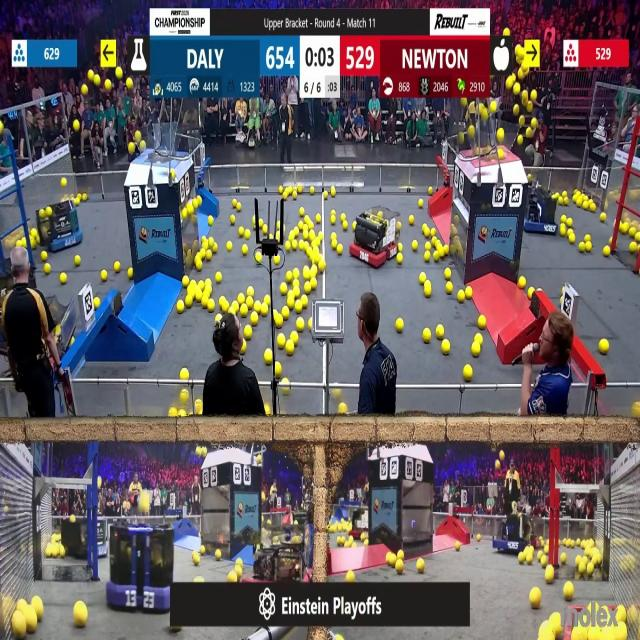ball_airborne: (139, 496, 150, 512), (514, 84, 522, 96), (522, 61, 530, 73), (497, 129, 504, 142), (73, 119, 80, 131), (506, 76, 513, 88), (516, 45, 524, 55), (530, 91, 537, 102), (81, 86, 88, 97), (127, 78, 134, 89), (491, 102, 497, 114), (130, 142, 136, 154), (459, 132, 465, 144), (140, 141, 147, 151), (518, 135, 525, 145), (94, 75, 101, 85), (519, 115, 526, 125), (531, 117, 537, 128), (515, 104, 521, 115), (468, 127, 474, 138), (116, 68, 122, 79), (498, 148, 504, 158), (527, 102, 533, 112), (106, 79, 112, 89), (136, 132, 142, 142), (481, 104, 486, 116), (518, 70, 524, 80), (499, 449, 504, 460), (526, 129, 532, 138), (89, 71, 95, 80), (503, 29, 509, 37), (495, 460, 500, 469), (0, 121, 4, 132), (514, 501, 518, 508)
ball_ground: (74, 604, 87, 629), (552, 615, 562, 637), (530, 588, 540, 608), (27, 616, 38, 634), (30, 596, 40, 614), (564, 584, 573, 601), (544, 567, 553, 582), (285, 342, 294, 356), (600, 340, 608, 355), (266, 349, 274, 364), (443, 340, 451, 354), (464, 364, 472, 378), (275, 362, 283, 376), (395, 560, 403, 574), (244, 325, 252, 339), (346, 570, 355, 582), (417, 560, 425, 573), (471, 344, 479, 357), (438, 325, 446, 338), (180, 389, 188, 402), (424, 283, 431, 297), (296, 318, 303, 332), (196, 290, 203, 304), (177, 302, 185, 314), (250, 313, 258, 325), (180, 367, 188, 379), (340, 404, 348, 416), (290, 333, 298, 345), (387, 554, 395, 566), (278, 336, 286, 348), (446, 282, 454, 294), (220, 301, 228, 313), (577, 563, 585, 575), (286, 295, 294, 307), (423, 328, 430, 341), (294, 301, 301, 314), (192, 553, 199, 566), (227, 572, 236, 582), (282, 308, 290, 319), (262, 306, 270, 317), (184, 295, 192, 306), (334, 389, 342, 400), (479, 316, 486, 328), (519, 277, 526, 289), (61, 273, 68, 285), (465, 287, 472, 299), (208, 300, 215, 312), (276, 315, 283, 327), (588, 562, 594, 576), (305, 282, 312, 294), (302, 294, 309, 306), (246, 296, 254, 306), (252, 303, 260, 313), (441, 247, 449, 257), (396, 319, 402, 332), (458, 290, 465, 301), (280, 283, 287, 294), (318, 263, 325, 274), (241, 306, 248, 317), (304, 269, 311, 280), (242, 342, 248, 354), (195, 260, 201, 272), (170, 409, 178, 418), (396, 552, 403, 562), (445, 270, 452, 280), (311, 279, 318, 289), (297, 240, 304, 250), (630, 243, 637, 253), (233, 303, 240, 313), (292, 270, 299, 280), (284, 241, 291, 251), (292, 287, 299, 297), (204, 287, 211, 297), (283, 386, 290, 396), (314, 253, 321, 263), (255, 252, 261, 263), (266, 407, 272, 418), (586, 242, 592, 253), (102, 271, 108, 282), (568, 233, 574, 244), (578, 242, 584, 253), (560, 223, 566, 234), (540, 556, 546, 567), (519, 553, 525, 564), (237, 566, 243, 577), (60, 548, 66, 559), (196, 199, 202, 210), (526, 554, 532, 565), (422, 224, 428, 235), (194, 575, 202, 583), (313, 240, 321, 248), (571, 632, 579, 640), (247, 287, 254, 296), (474, 335, 481, 344), (205, 251, 212, 260), (317, 233, 324, 242), (22, 239, 29, 248), (74, 255, 80, 265), (114, 264, 120, 274), (604, 246, 610, 256), (420, 274, 426, 284), (44, 265, 50, 275), (274, 254, 280, 264), (242, 245, 248, 255), (182, 277, 188, 287), (215, 551, 221, 561), (338, 245, 344, 255), (291, 241, 297, 251), (94, 297, 100, 307), (424, 251, 430, 261), (561, 554, 567, 564), (396, 253, 402, 263), (41, 251, 47, 261), (286, 272, 292, 282), (239, 293, 245, 303), (312, 267, 318, 277), (189, 279, 195, 289), (184, 208, 190, 218), (292, 231, 299, 239), (291, 280, 298, 288), (216, 273, 221, 284), (129, 269, 134, 280), (528, 287, 533, 298), (600, 213, 606, 222), (343, 221, 349, 230), (208, 216, 214, 225), (231, 215, 237, 224), (304, 232, 310, 241), (199, 280, 205, 289), (310, 232, 316, 241), (584, 201, 590, 210), (413, 241, 418, 251), (226, 242, 231, 252), (309, 318, 314, 328), (212, 241, 217, 251), (288, 232, 293, 242), (433, 252, 438, 262), (264, 224, 269, 234), (179, 411, 186, 418), (316, 214, 322, 222), (266, 295, 272, 303), (425, 242, 431, 250), (298, 208, 304, 216), (397, 244, 403, 252), (282, 191, 288, 199), (363, 539, 369, 547), (291, 190, 297, 198), (276, 220, 282, 228), (276, 233, 282, 241), (307, 247, 313, 255), (282, 378, 288, 386), (331, 240, 336, 249), (330, 215, 335, 224), (342, 213, 347, 222), (31, 240, 36, 249), (635, 233, 640, 242), (330, 234, 336, 241), (323, 191, 329, 198), (269, 234, 275, 241), (590, 205, 596, 212), (310, 187, 316, 194), (419, 200, 424, 208), (410, 216, 415, 224), (567, 218, 572, 226), (561, 215, 566, 223), (242, 230, 247, 238), (330, 188, 335, 196), (216, 314, 221, 322), (430, 230, 435, 238), (564, 198, 569, 206), (396, 220, 401, 228), (202, 544, 206, 553), (298, 220, 302, 229), (586, 235, 591, 242), (428, 187, 433, 194), (475, 534, 480, 541), (543, 545, 548, 552), (252, 217, 257, 224), (75, 199, 80, 206), (305, 216, 310, 223), (279, 186, 284, 193), (456, 541, 460, 549), (234, 201, 238, 209), (258, 219, 262, 227), (352, 222, 356, 230), (82, 192, 86, 199), (330, 210, 334, 216)
goal: (462, 126, 521, 160), (130, 129, 190, 159)
robot_blue: (106, 520, 182, 611), (38, 204, 84, 254), (522, 188, 559, 236), (493, 512, 535, 552)
robot_red: (255, 522, 307, 581), (354, 208, 398, 269)
